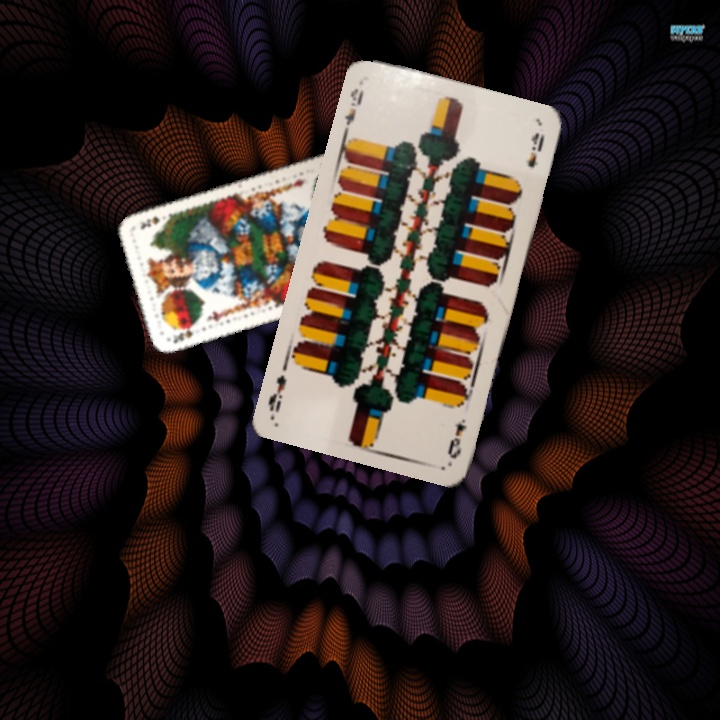E9: (340, 84, 366, 135), (443, 415, 469, 462)
SK: (169, 320, 201, 346)
